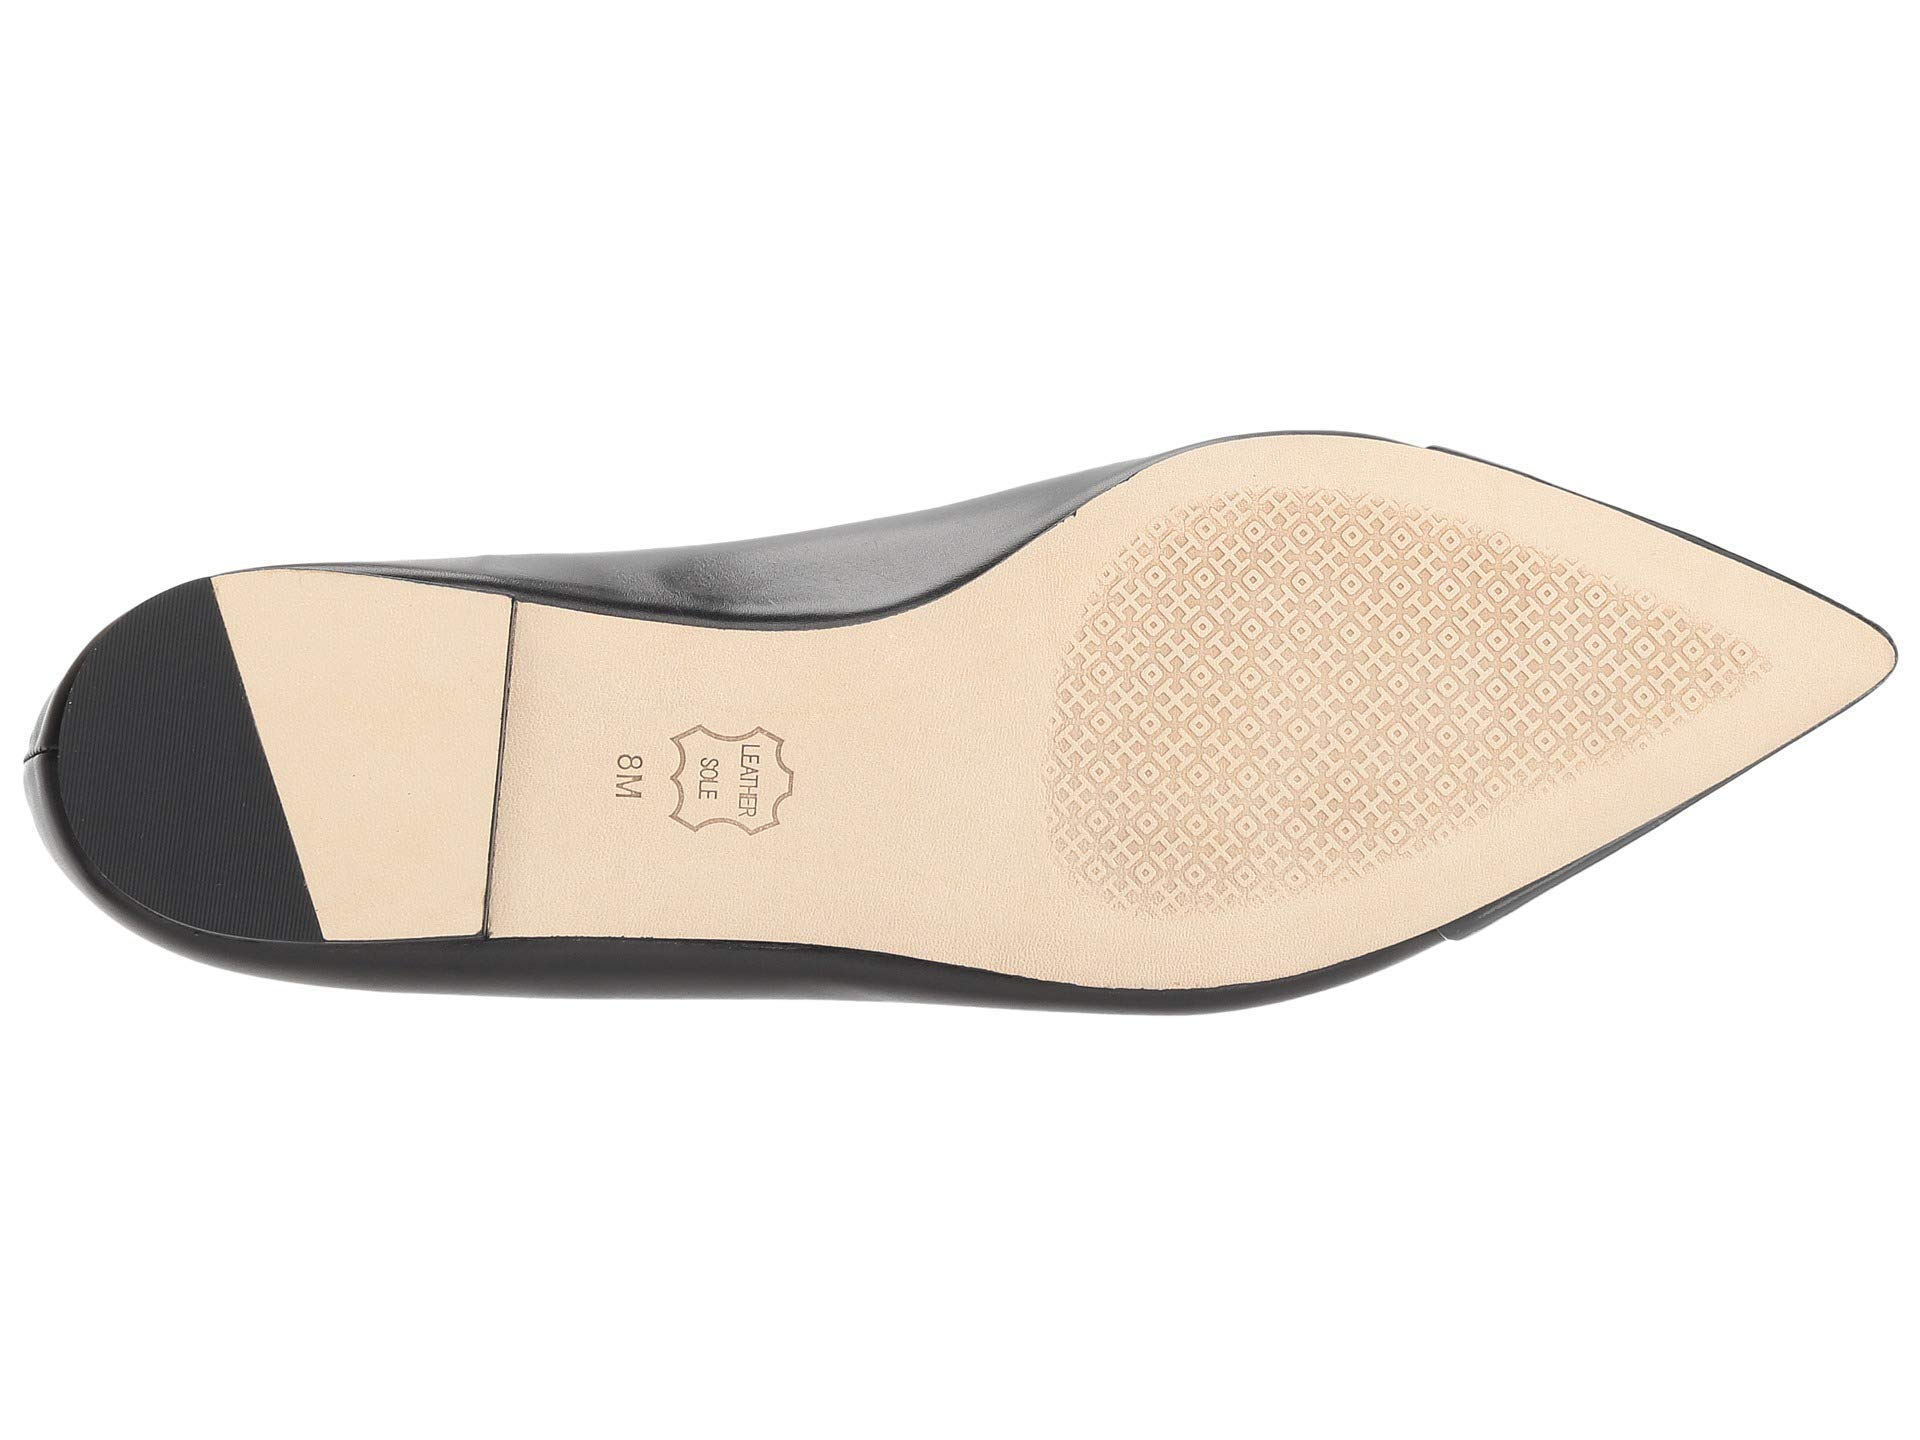quad: (1175, 519, 1483, 820)
star: (1175, 519, 1483, 820), (534, 672, 838, 932)
text: (534, 672, 838, 932)
